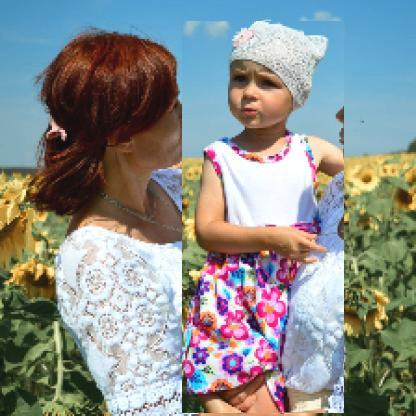child: (183, 22, 346, 415)
